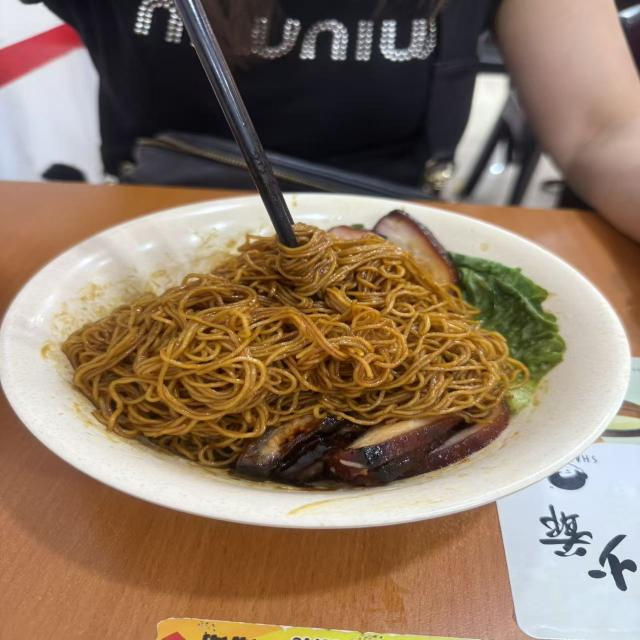Wantan Mee: (39, 167, 598, 509)
